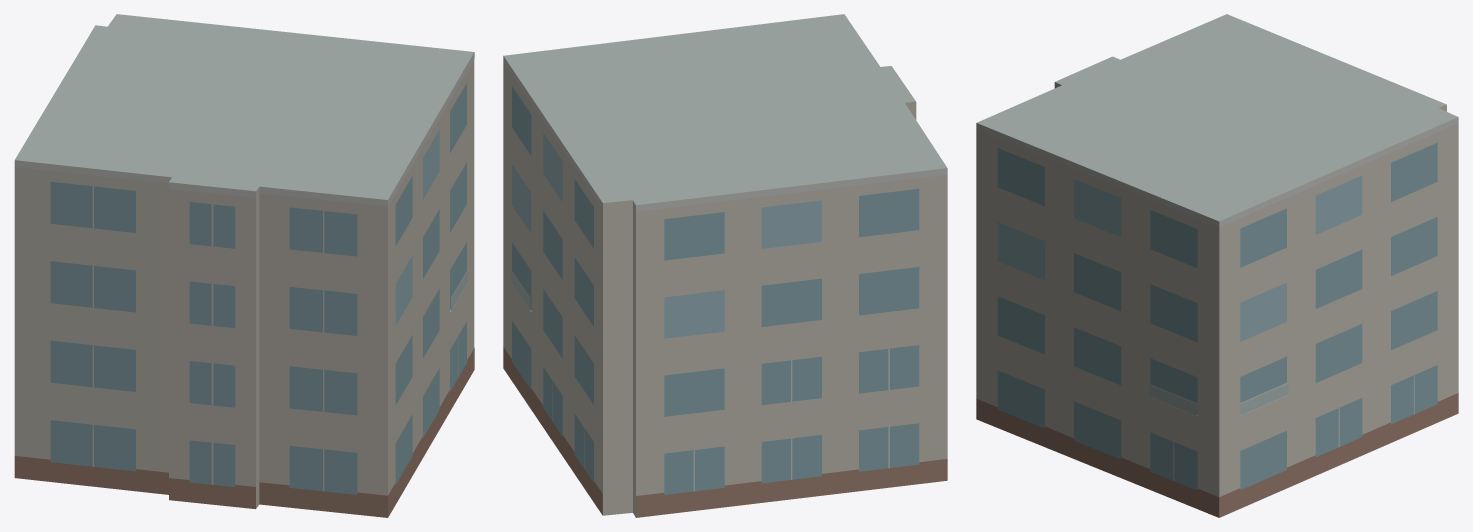
The model's file is survey-upis-33002238.glb.
3 views of the same model, side by side, from view 1: azimuth 30°, elevation 25°; view 2: azimuth 150°, elevation 25°; view 3: azimuth 270°, elevation 25° (orthographic). The views are drawn at different scales.
Visible parts, largest first — view 1: survey-upis-33002238.tmp; view 2: survey-upis-33002238.tmp; view 3: survey-upis-33002238.tmp.
Part boxes in pixels (x1,y1,x2,y2): survey-upis-33002238.tmp: [14, 14, 474, 517]; survey-upis-33002238.tmp: [503, 14, 947, 517]; survey-upis-33002238.tmp: [976, 14, 1458, 517].
Bounding box in the file's own units: 17.86 × 11.9 × 17.54.
